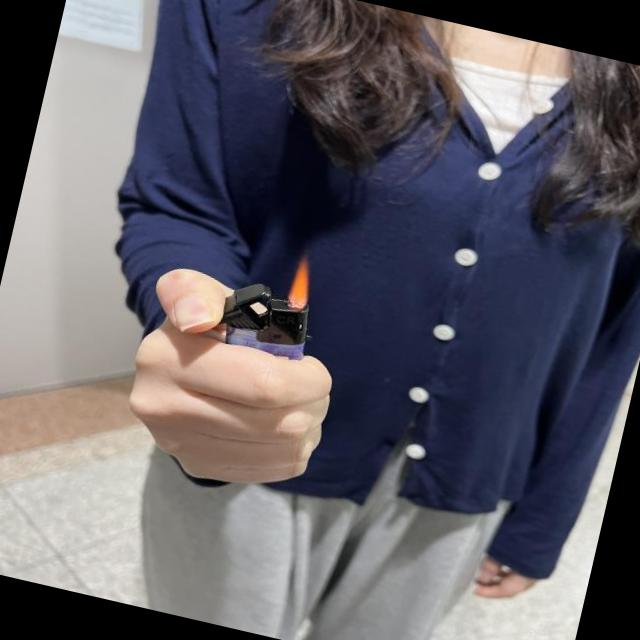Fire: (282, 257, 319, 312)
